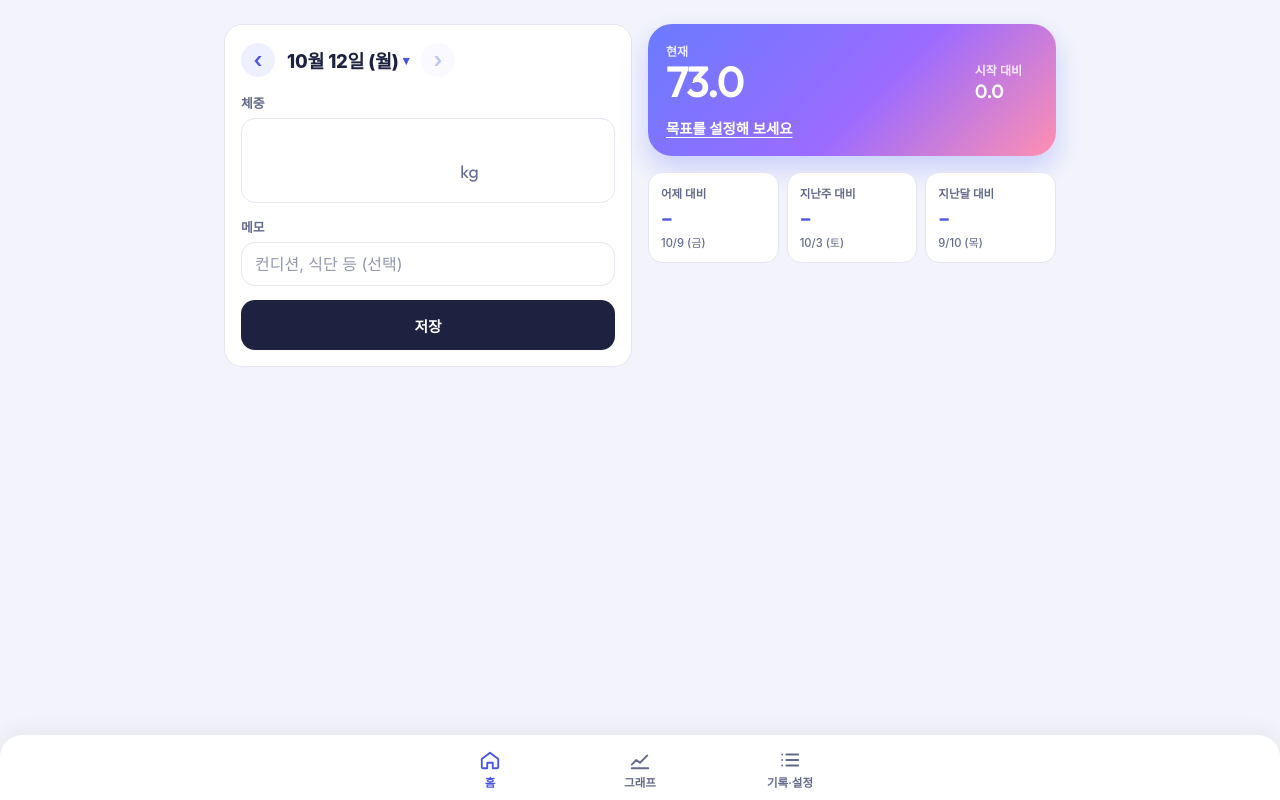
it: history list › deletes only after confirmation
The width and height of the screenshot is (1280, 800).
Expected: the navigation bar is shown, [0, 735, 1279, 799]
Click the button "기록·설정" at (790,770), box [715, 741, 865, 799]
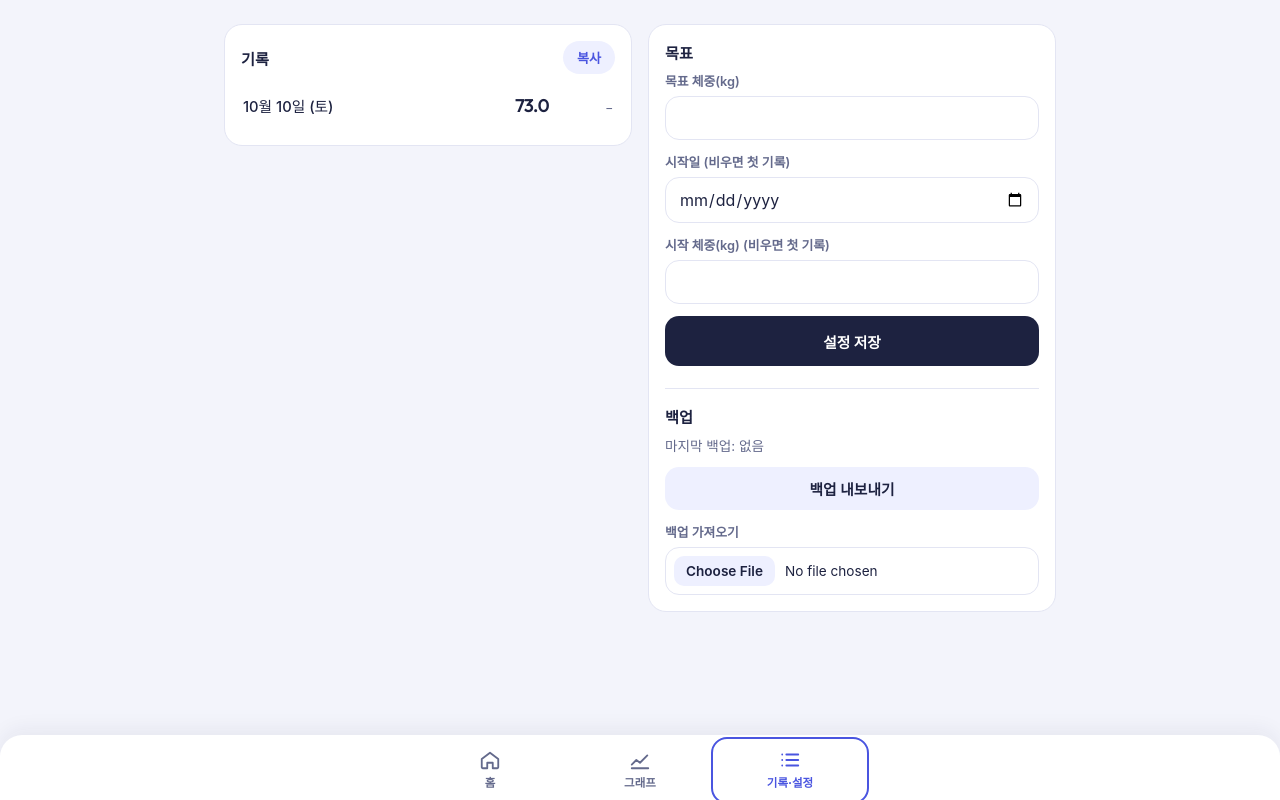
Click the button "10월 10일 (토) 73.0 –" at (288,107), box [241, 82, 615, 129]
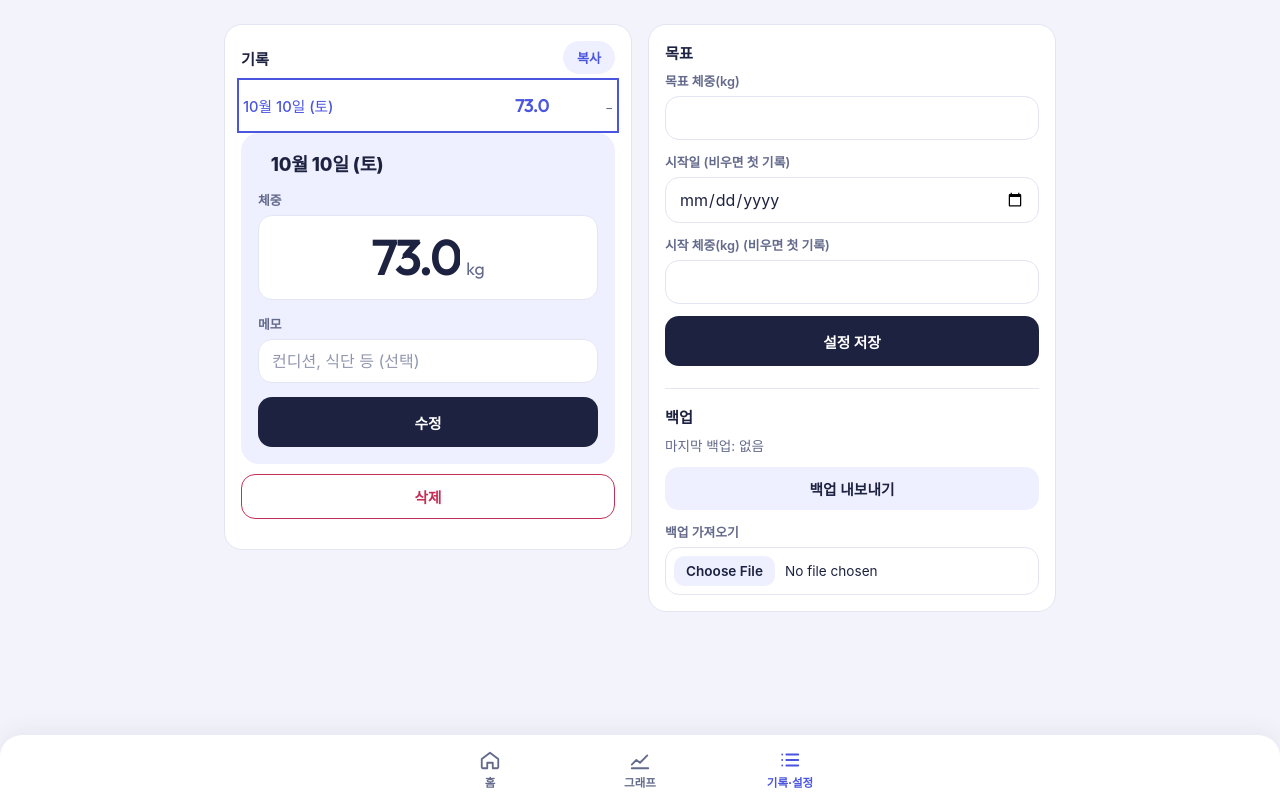
Click the button "삭제" at (428,497), box [241, 474, 615, 519]
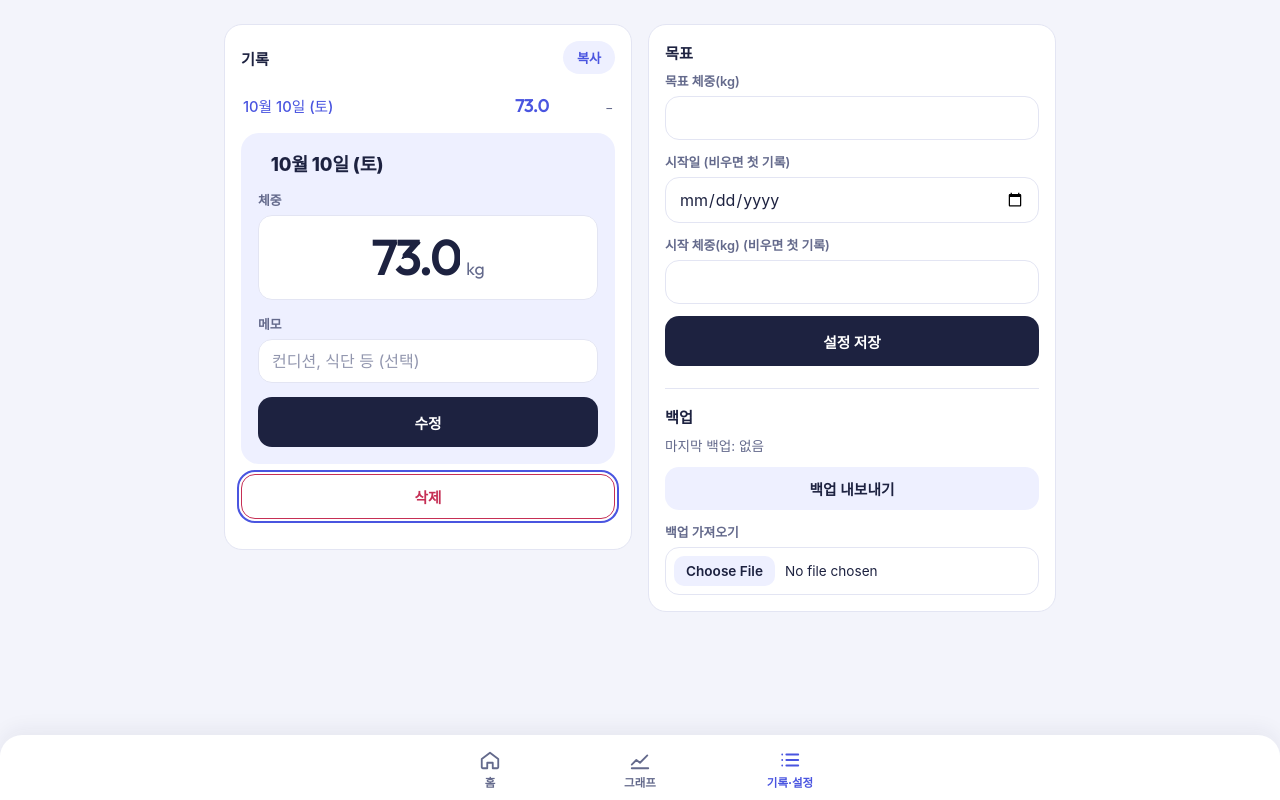
Click the button "삭제" at (428,497), box [241, 474, 615, 519]
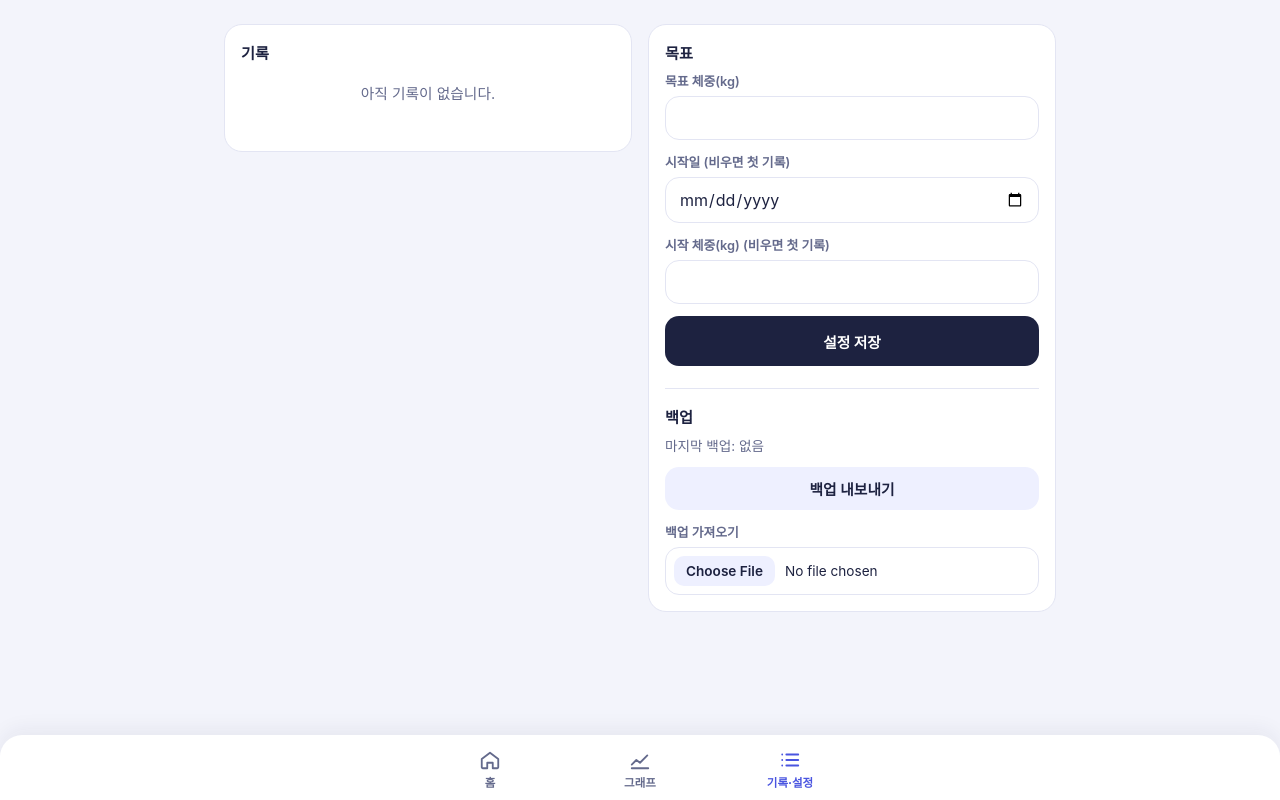
Now the text "아직 기록이 없습니다." is shown, box [361, 85, 495, 103]
Now the button "복사" is gone
